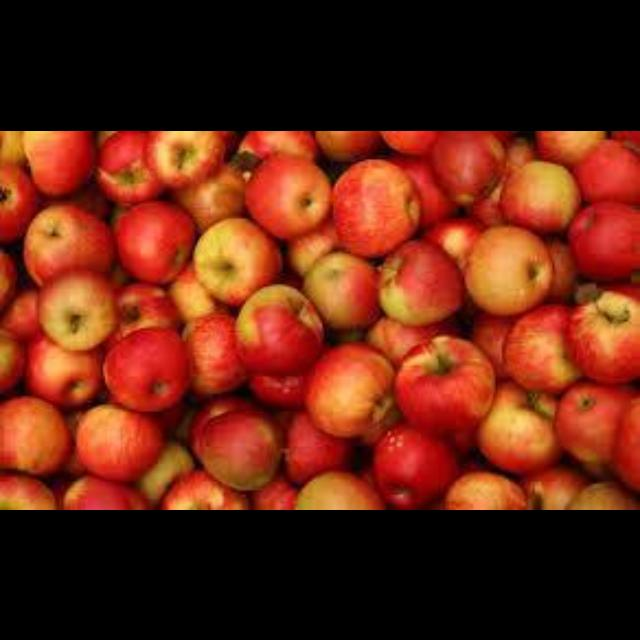apple: (395, 334, 493, 430), (331, 158, 419, 255), (235, 283, 322, 373), (476, 380, 561, 472), (462, 224, 550, 312), (193, 218, 281, 303), (22, 202, 114, 283), (245, 152, 329, 237), (103, 327, 188, 411), (191, 408, 281, 487), (555, 380, 633, 470), (379, 240, 462, 323), (373, 424, 456, 507), (568, 290, 638, 382), (75, 404, 162, 478), (116, 200, 195, 281), (37, 268, 116, 347), (500, 158, 579, 231), (24, 332, 101, 406), (0, 395, 70, 474), (568, 200, 638, 279), (430, 130, 502, 202), (96, 130, 162, 202), (171, 165, 243, 229), (22, 130, 92, 194), (572, 139, 638, 202), (296, 470, 384, 507), (61, 474, 149, 507), (0, 288, 37, 338)
